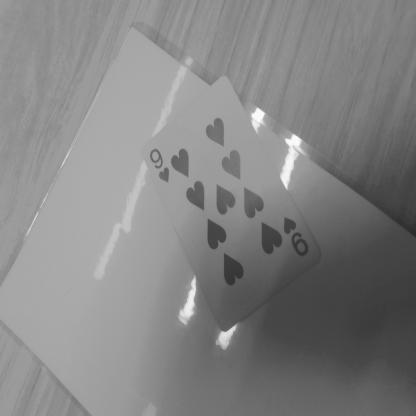9H: (280, 210, 315, 260), (144, 150, 172, 186)
